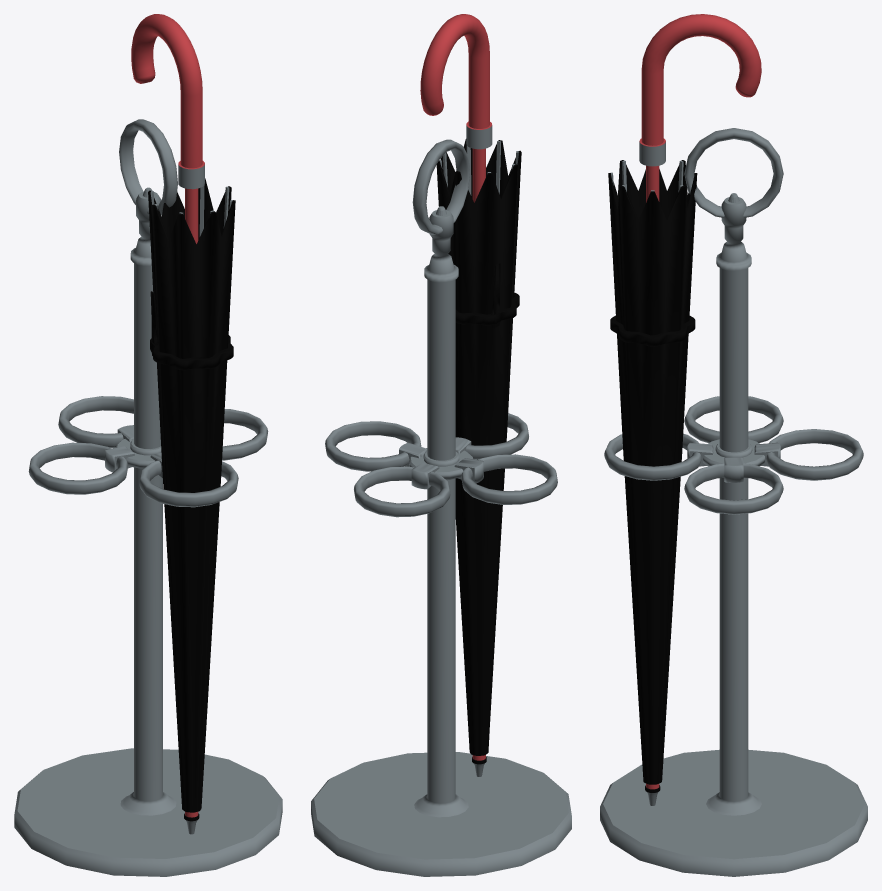
Rendered from GenericProp-Umbrella.fbx.
3 renders of one model, left to right at view 1: azimuth 30°, elevation 25°; view 2: azimuth 150°, elevation 25°; view 3: azimuth 270°, elevation 25°, orthographic. The views are drawn at different scales.
Visible parts, largest first — view 1: Umbrella; view 2: Umbrella; view 3: Umbrella.
Part boxes in pixels (<box>): Umbrella: <box>14,14,282,876</box>; Umbrella: <box>311,14,571,876</box>; Umbrella: <box>600,14,867,876</box>.
Bounding box in the file's own units: 28.33 × 94.05 × 28.33.
